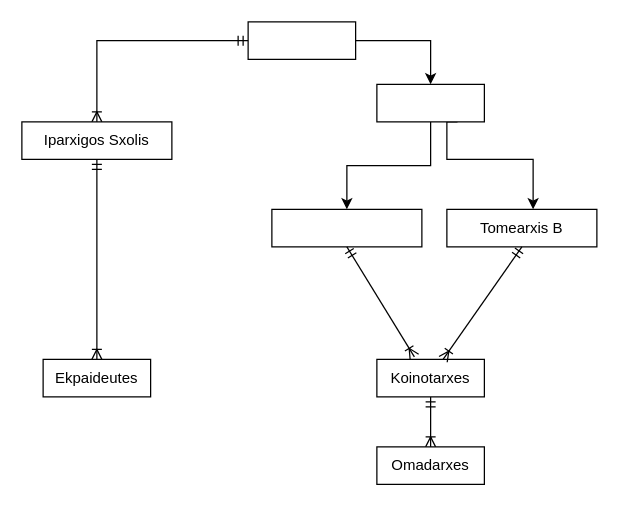
This 619x506 diagram has some shape labels left out. Here are the shapes that lost their labels. From the top down, the box of each, then its label:
(247, 21, 356, 59): Arxigos
(376, 83, 484, 122): Iparxigos
(271, 208, 422, 247): Tomearxis A
